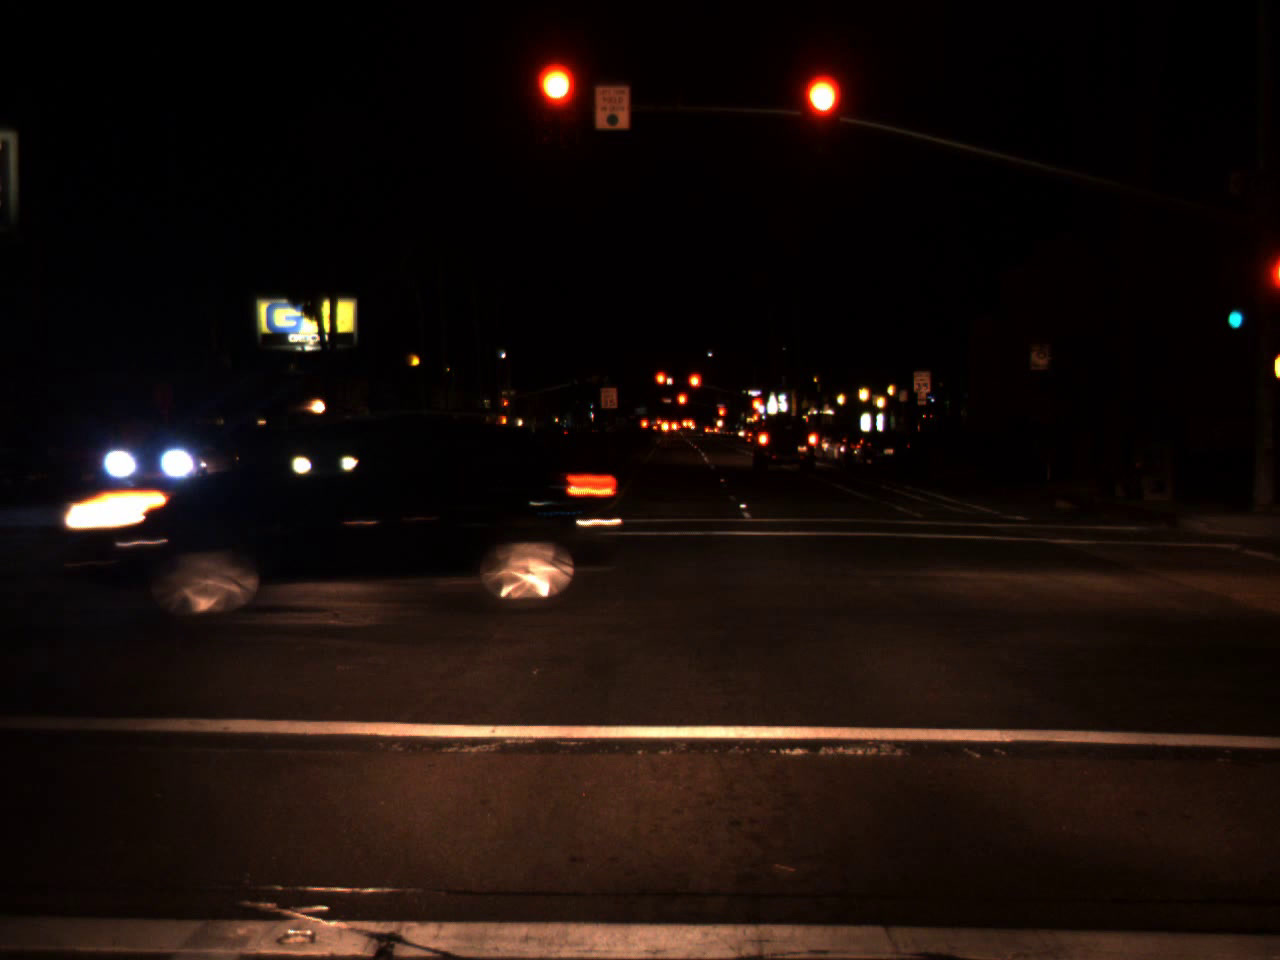stop: (537, 66, 577, 144), (802, 75, 841, 153), (686, 371, 702, 403), (653, 370, 668, 399), (676, 391, 688, 418), (750, 396, 763, 412), (717, 406, 726, 427), (503, 399, 509, 412)
